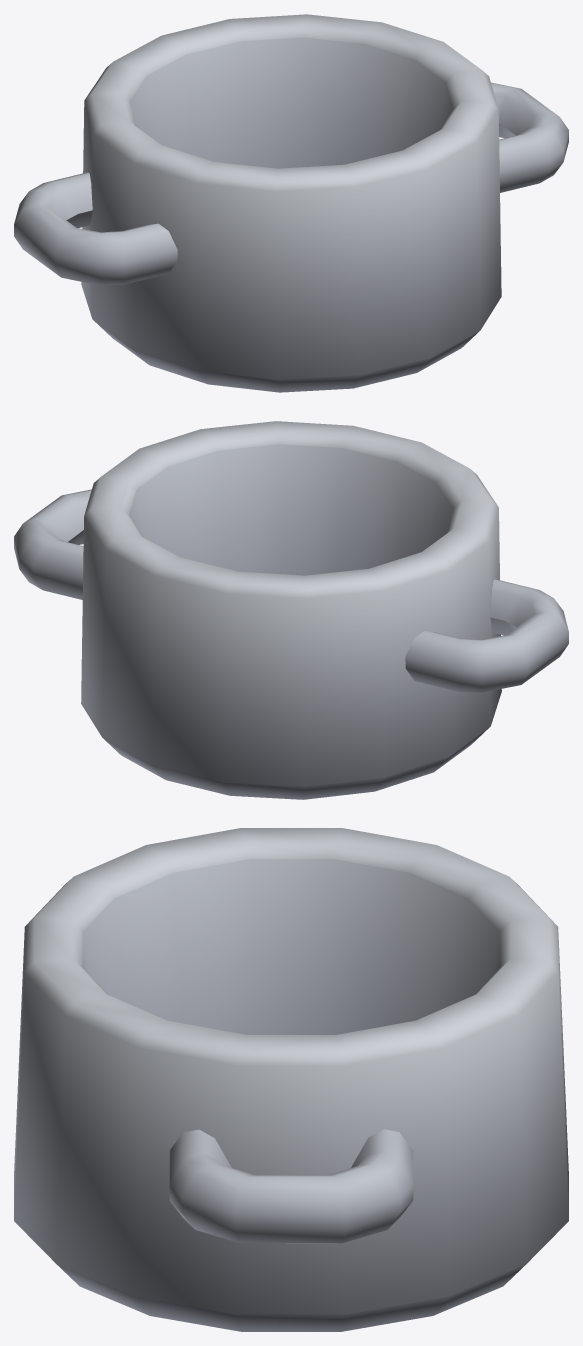
File: Pot.glb
3 views of the same model, one above another, from view 1: azimuth 30°, elevation 25°; view 2: azimuth 150°, elevation 25°; view 3: azimuth 270°, elevation 25° (orthographic). The views are drawn at different scales.
Parts seen in each view (by area): view 1: pot; view 2: pot; view 3: pot.
Part boxes in pixels (x1,y1,x2,y2): pot: (14,14,568,392); pot: (14,421,568,799); pot: (14,828,568,1331).
Bounding box in the file's own units: 1 × 0.4 × 0.7.
1 material, 1 textured.
